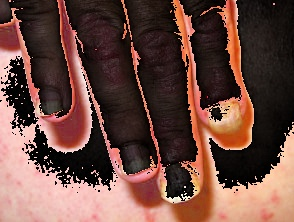Nail_psoriasis: (197, 90, 257, 146), (110, 131, 162, 187), (153, 157, 205, 208), (32, 79, 72, 121)
